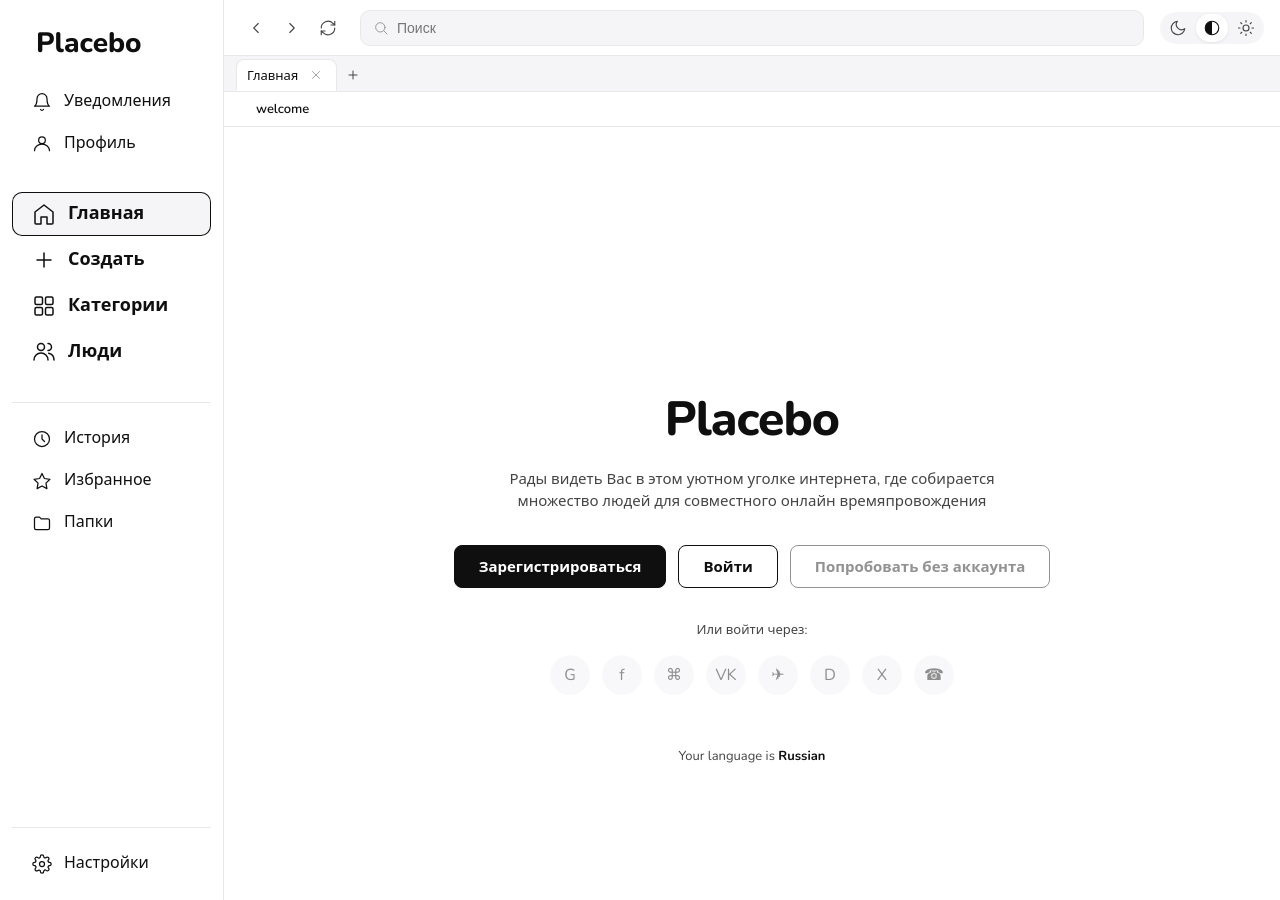
Test: Sidebar -> tab opening › opens a Settings tab when the sidebar item is clicked
This screenshot has width=1280, height=900.
Click the button "Настройки".
click(112, 864)  # box [12, 844, 211, 884]
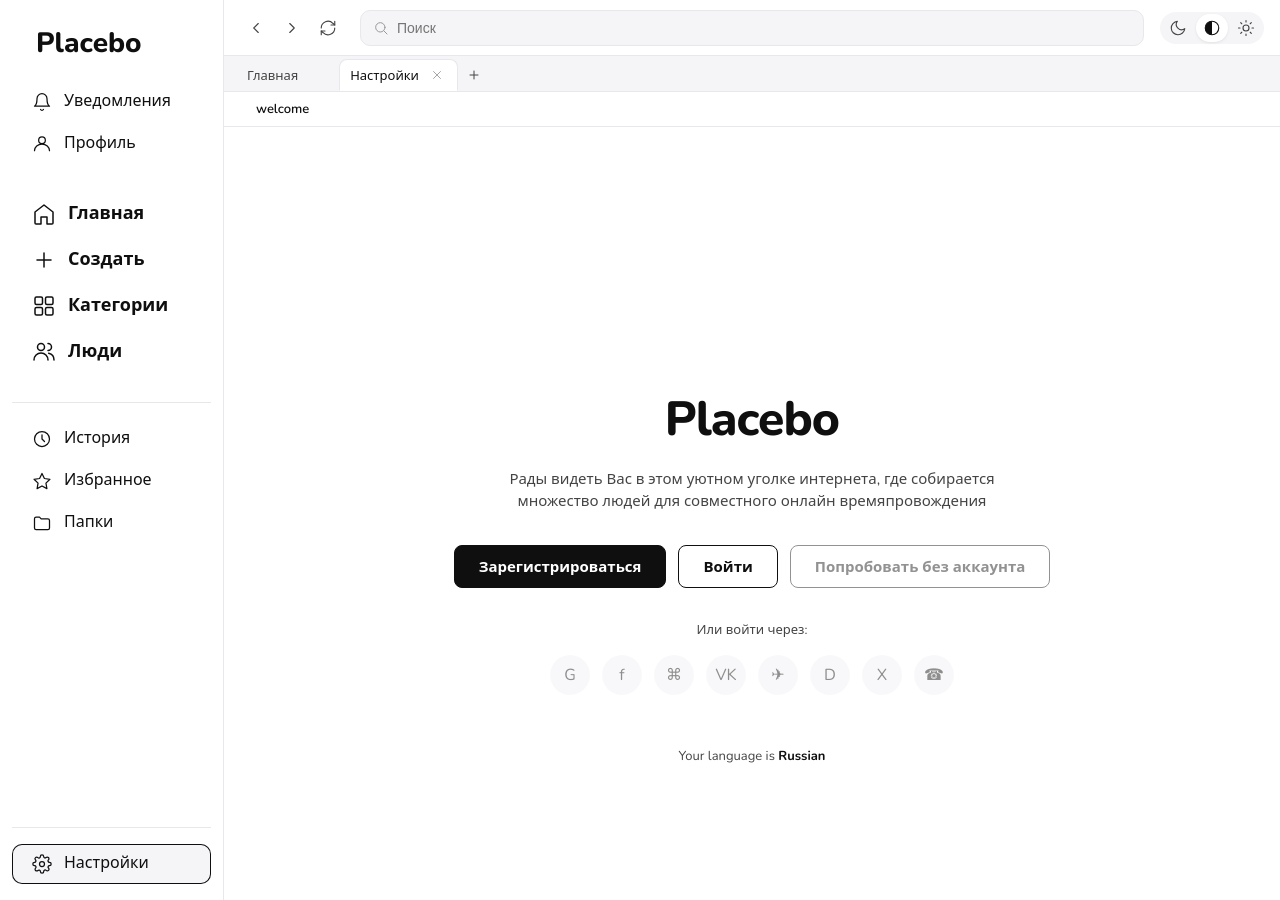
Expected: the number of tabs "Настройки" is 1, [339, 59, 458, 91]
Expected: the number of tabs "Главная" is 1, [247, 66, 298, 84]
